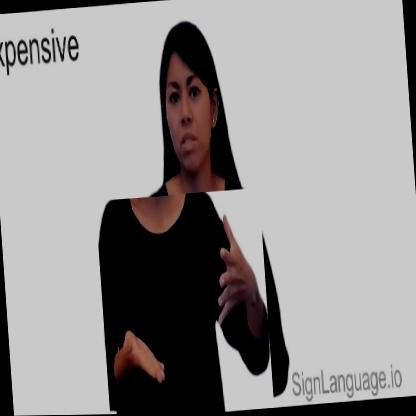Expensive: (95, 188, 274, 415)
